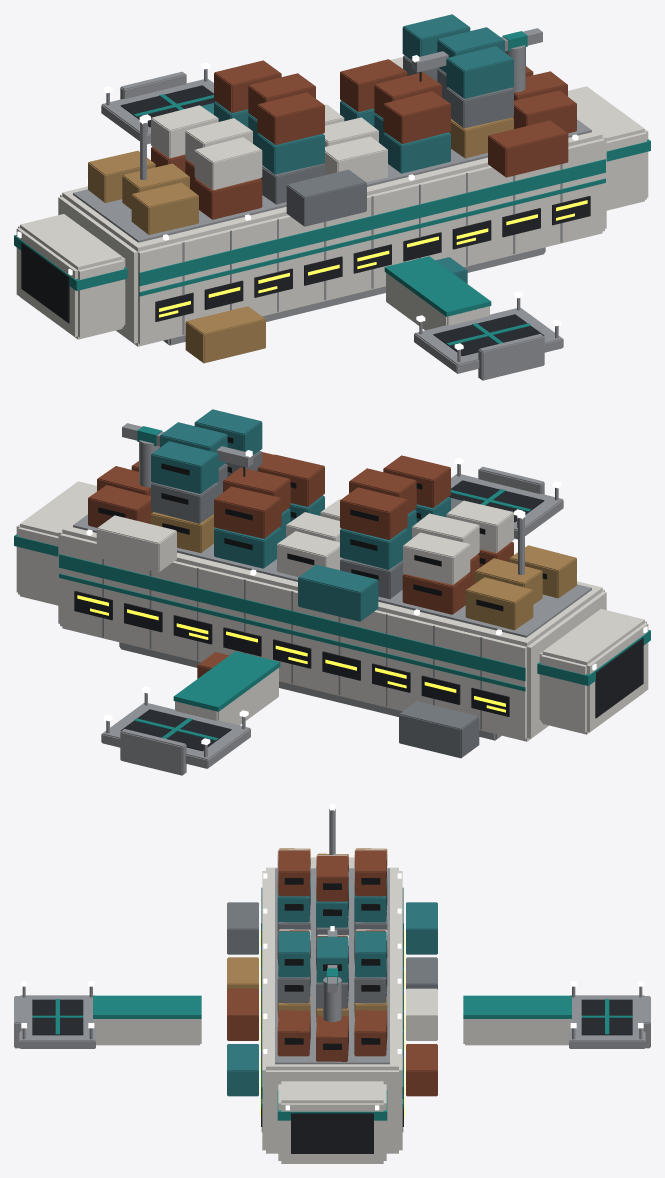
The model's file is guild_depot.glb.
3 views of the same model, one above another, from view 1: azimuth 30°, elevation 25°; view 2: azimuth 150°, elevation 25°; view 3: azimuth 270°, elevation 25° (orthographic). The views are drawn at different scales.
Visible parts, largest first — view 1: guild_depot_guild_white, guild_depot_container_rust, guild_depot_guild_grey, guild_depot_guild_teal, guild_depot_dock_dark, guild_depot_container_teal, guild_depot_container_tan, guild_depot_container_grey, guild_depot_amber_ticker, guild_depot_work_light_white; view 2: guild_depot_guild_white, guild_depot_container_rust, guild_depot_guild_grey, guild_depot_guild_teal, guild_depot_container_teal, guild_depot_dock_dark, guild_depot_container_tan, guild_depot_container_grey, guild_depot_stencil_black, guild_depot_amber_ticker, guild_depot_work_light_white; view 3: guild_depot_guild_white, guild_depot_container_rust, guild_depot_guild_grey, guild_depot_container_teal, guild_depot_dock_dark, guild_depot_guild_teal, guild_depot_container_grey, guild_depot_stencil_black, guild_depot_container_tan, guild_depot_work_light_white.
Part boxes in pixels (x1,y1,x2,y2): guild_depot_guild_white: (16, 57, 648, 346); guild_depot_container_rust: (151, 59, 576, 219); guild_depot_guild_grey: (73, 28, 591, 380); guild_depot_guild_teal: (14, 31, 650, 345); guild_depot_dock_dark: (21, 71, 590, 356); guild_depot_container_teal: (201, 14, 513, 283); guild_depot_container_tan: (88, 117, 513, 363); guild_depot_container_grey: (260, 55, 513, 226); guild_depot_amber_ticker: (159, 200, 587, 317); guild_depot_work_light_white: (17, 55, 647, 349); guild_depot_guild_white: (16, 481, 648, 741); guild_depot_container_rust: (88, 452, 513, 678); guild_depot_guild_grey: (73, 423, 591, 775); guild_depot_guild_teal: (14, 426, 650, 740); guild_depot_container_teal: (151, 409, 450, 621); guild_depot_dock_dark: (74, 466, 643, 751); guild_depot_container_tan: (151, 512, 576, 630); guild_depot_container_grey: (151, 451, 479, 758); guild_depot_stencil_black: (98, 437, 546, 611); guild_depot_amber_ticker: (77, 595, 505, 712); guild_depot_work_light_white: (17, 450, 647, 744); guild_depot_guild_white: (93, 849, 571, 1163); guild_depot_container_rust: (227, 850, 437, 1096); guild_depot_guild_grey: (14, 809, 650, 1131); guild_depot_container_teal: (227, 877, 437, 1096); guild_depot_dock_dark: (32, 923, 632, 1153); guild_depot_guild_teal: (32, 887, 632, 1120); guild_depot_container_grey: (227, 902, 437, 1008); guild_depot_stencil_black: (284, 860, 386, 1049); guild_depot_container_tan: (227, 848, 387, 1022); guild_depot_work_light_white: (21, 804, 643, 1110).
Bounding box in the file's own units: 183 × 64.4 × 199.
